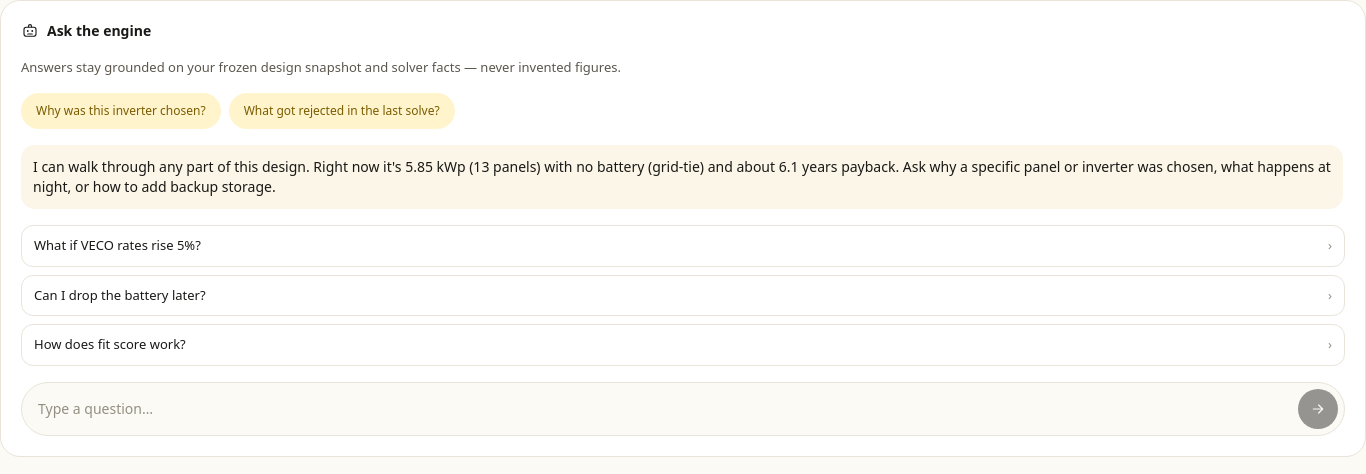
Test: AskEngineSidebar › shows a build welcome and answers grounded questions
Expected: the text "5.85 kWp (13 panels)" is shown, top-left (33, 157), bottom-right (1331, 196)
Expected: the button "How does fit score work? ›" is shown, top-left (21, 324), bottom-right (1345, 366)
Type "Why this inverter?" into the field with placeholder "Type a question…" at (664, 408), box top-left (38, 398), bottom-right (1290, 418)
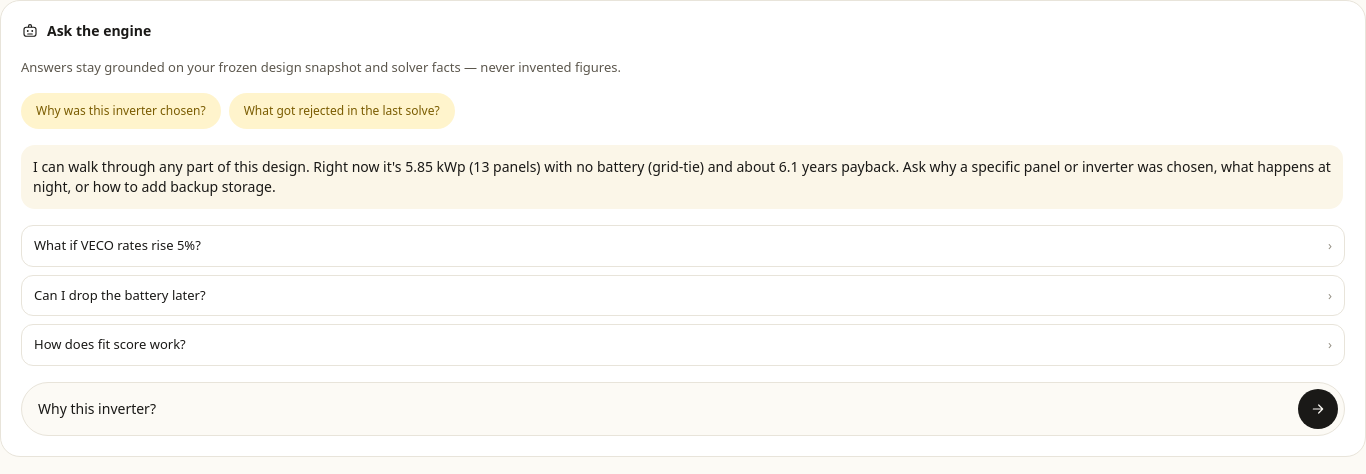
Click the button named "Send question" at (1318, 408), box top-left (1298, 388), bottom-right (1338, 428)
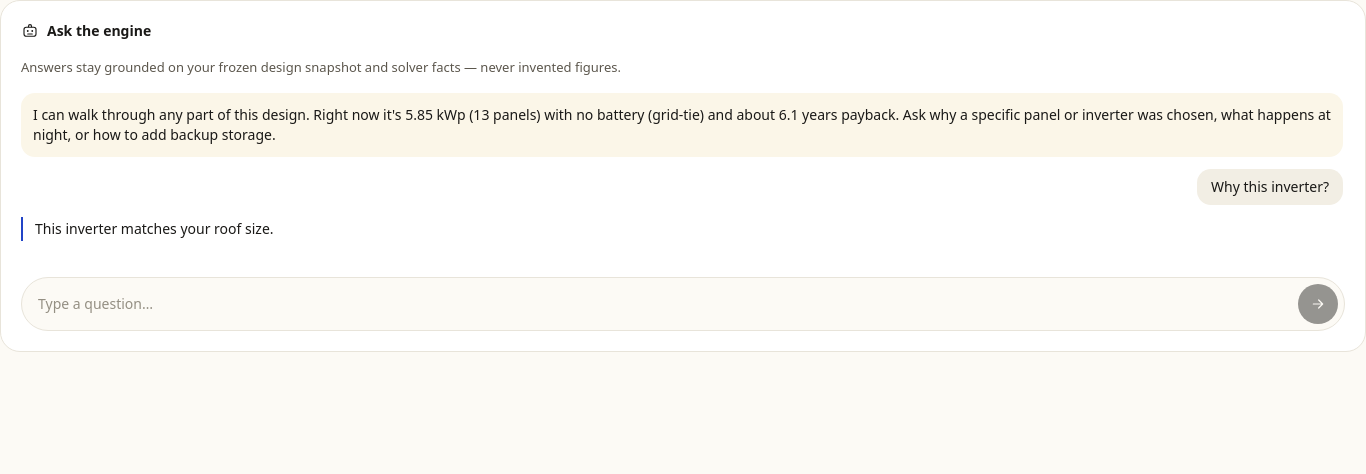
Now the text "This inverter matches your roof size." is shown, box top-left (21, 217), bottom-right (1343, 241)
